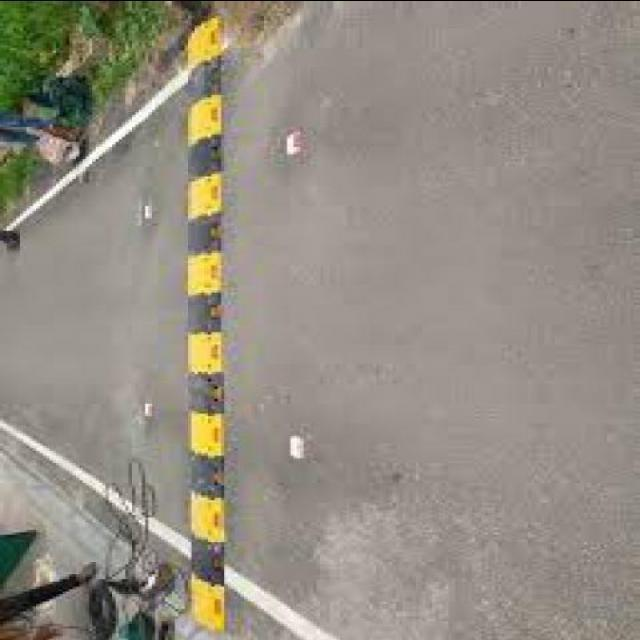speedbreaker: (170, 3, 233, 640)
